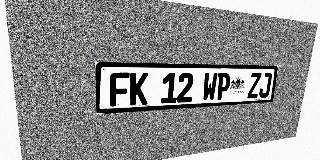1: (161, 73, 178, 104)
2: (177, 73, 194, 103)
F: (110, 72, 129, 107)
J: (258, 73, 272, 98)
K: (130, 72, 148, 105)
P: (215, 73, 231, 100)
W: (202, 73, 218, 101)
Z: (247, 73, 262, 98)
